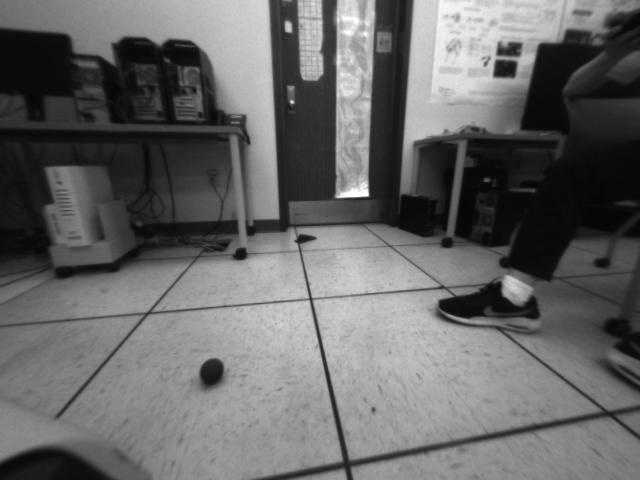dogtoy: (191, 350, 236, 392)
